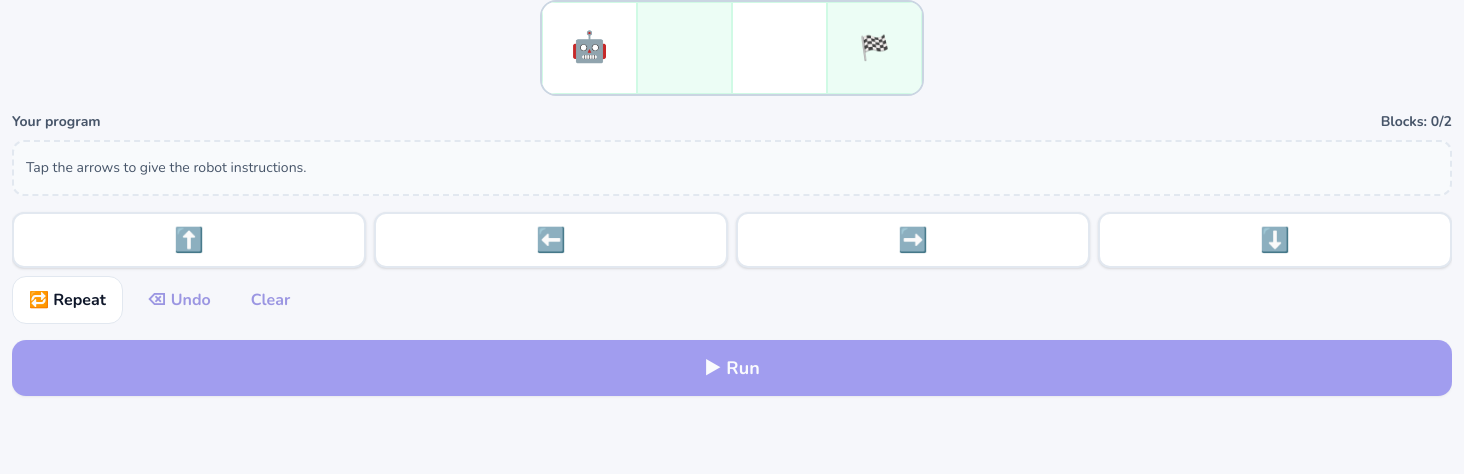
it: robot path › builds a program with arrows and repeat, runs it, then submits
The image size is (1464, 474).
Check: the text "Blocks: 0/2" is shown, box [1381,112,1452,132]
Click the button "🔁 Repeat". click: (67, 300)
box: [12,276,123,324]
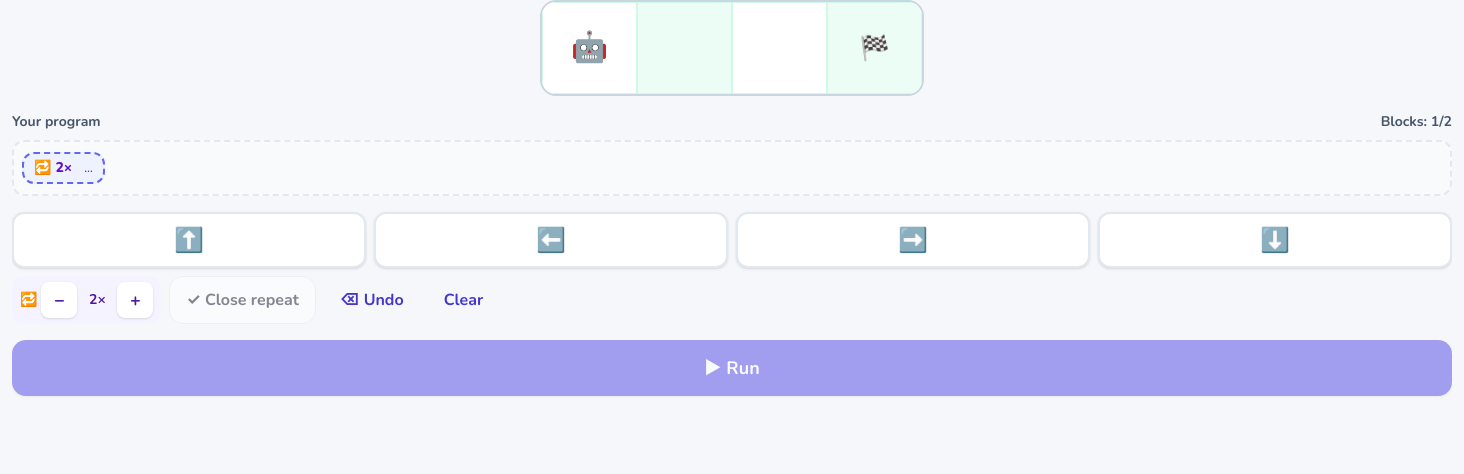
Click the button named "Repeat more times". click: (136, 300)
box: [118,282,154,318]
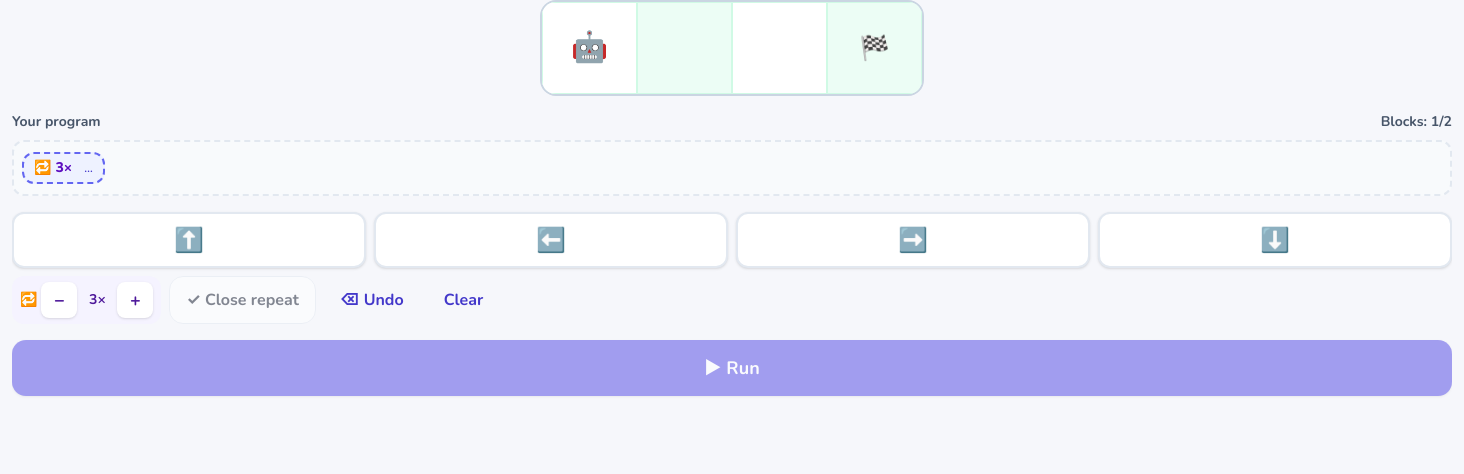
Click the button named "Move right". click: (913, 240)
box: [736,212,1090,268]
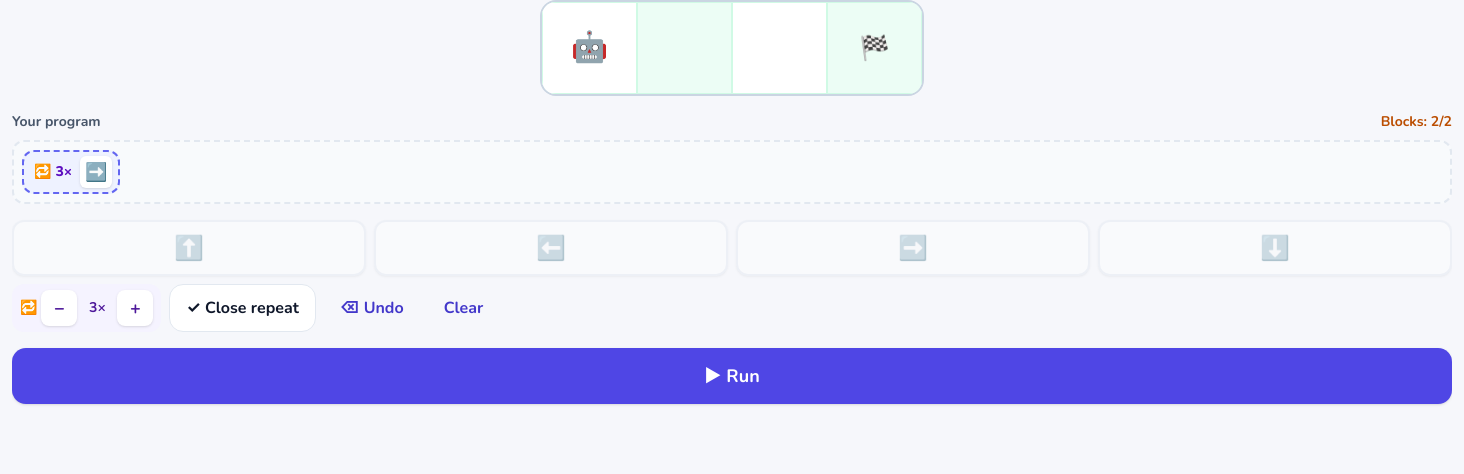
Check: the text "Blocks: 2/2" is shown, box [1381,112,1452,132]
Click the button "✓ Close repeat". click: (243, 308)
box: [170,284,316,332]
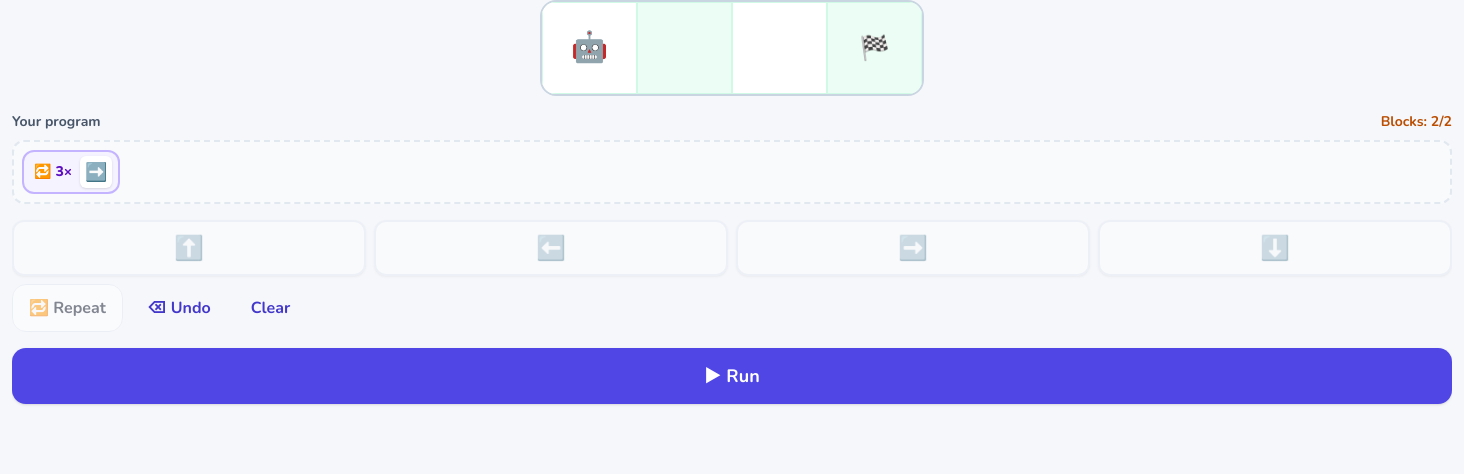
Click the button "▶ Run". click: (732, 376)
box: [12,348,1452,404]
Wait 1800 ms
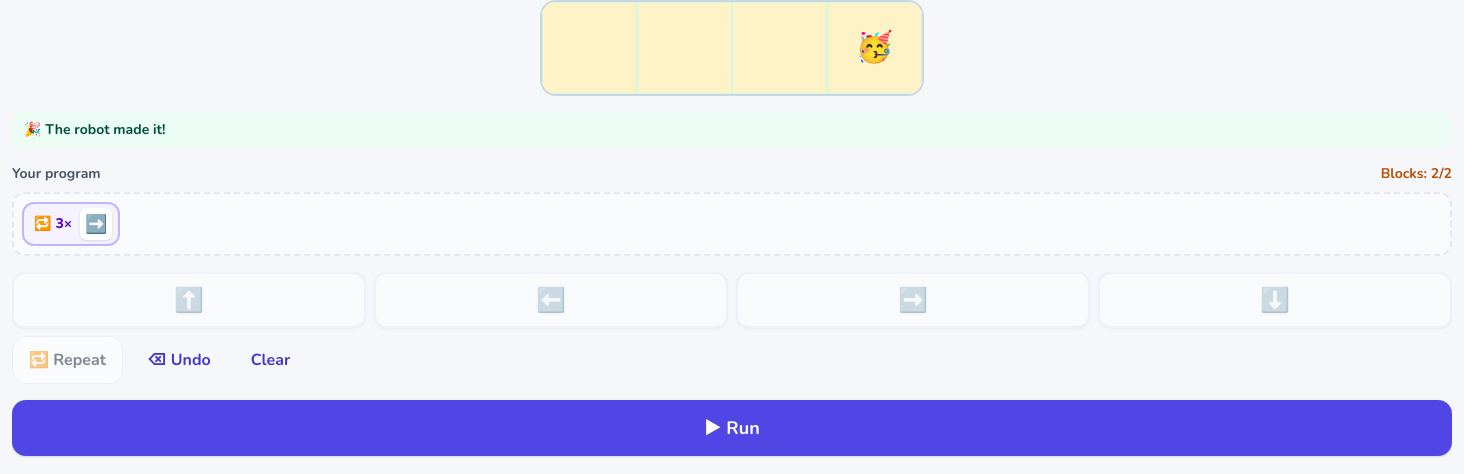
Check: the text "🎉 The robot made it!" is shown, box [12,112,1452,148]
